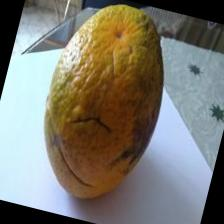Orange Rotten: (21, 0, 195, 219)
